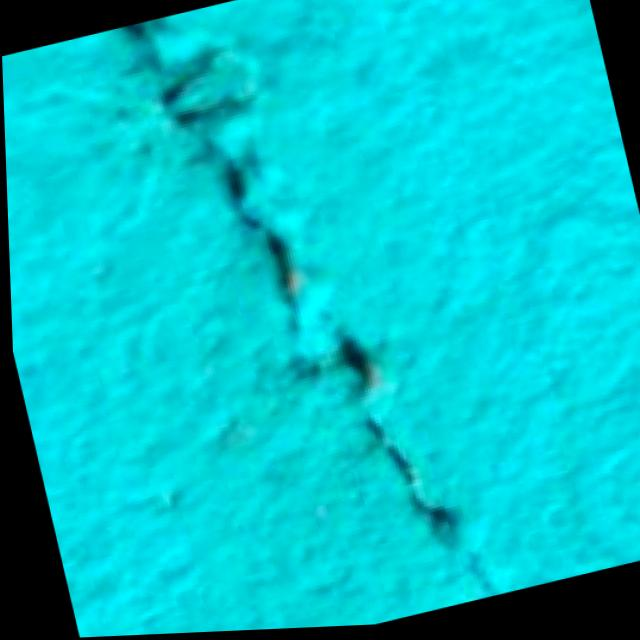Crack: (96, 0, 524, 637)
